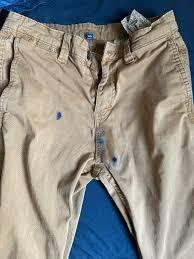ink: (95, 130, 104, 145), (57, 112, 62, 120), (112, 157, 117, 161)
